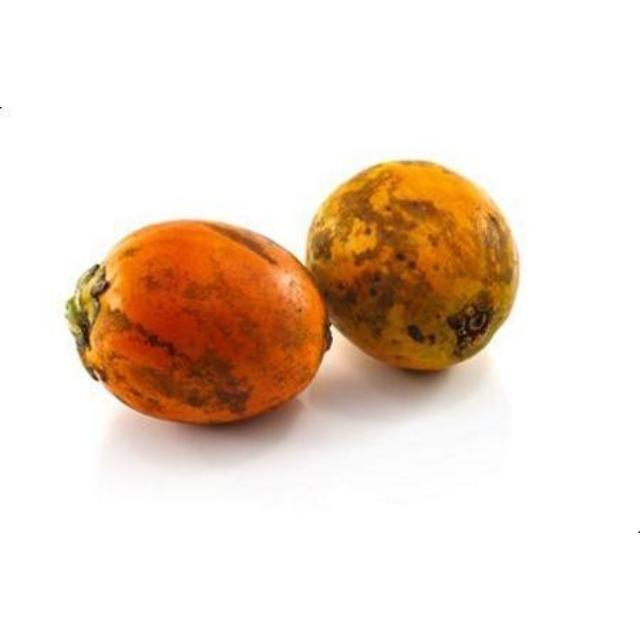good: (67, 221, 331, 427), (303, 161, 521, 374)
